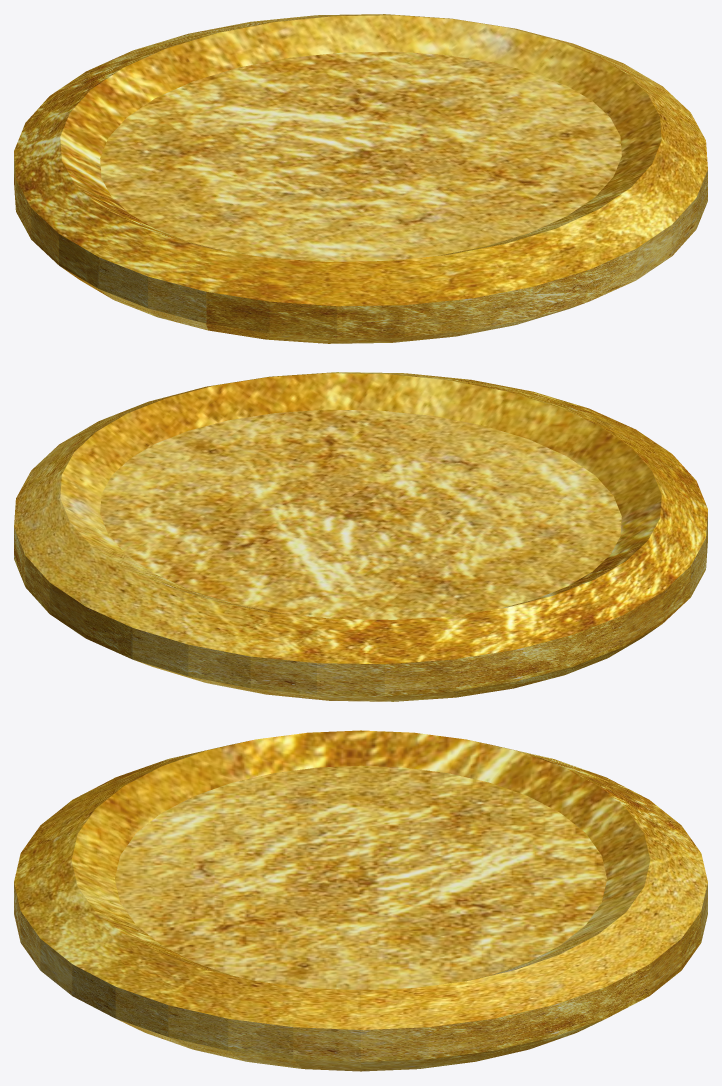
Rendered from Coin.fbx.
3 renders of one model, top to bottom at view 1: azimuth 30°, elevation 25°; view 2: azimuth 150°, elevation 25°; view 3: azimuth 270°, elevation 25°, orthographic.
Visible parts, largest first — view 1: 실린더; view 2: 실린더; view 3: 실린더.
Part boxes in pixels (x1=…): 실린더: x1=14, y1=14, x2=707, y2=343; 실린더: x1=14, y1=372, x2=707, y2=701; 실린더: x1=14, y1=730, x2=707, y2=1071.
Size of the model in its own units: 310 by 35.83 by 307.
